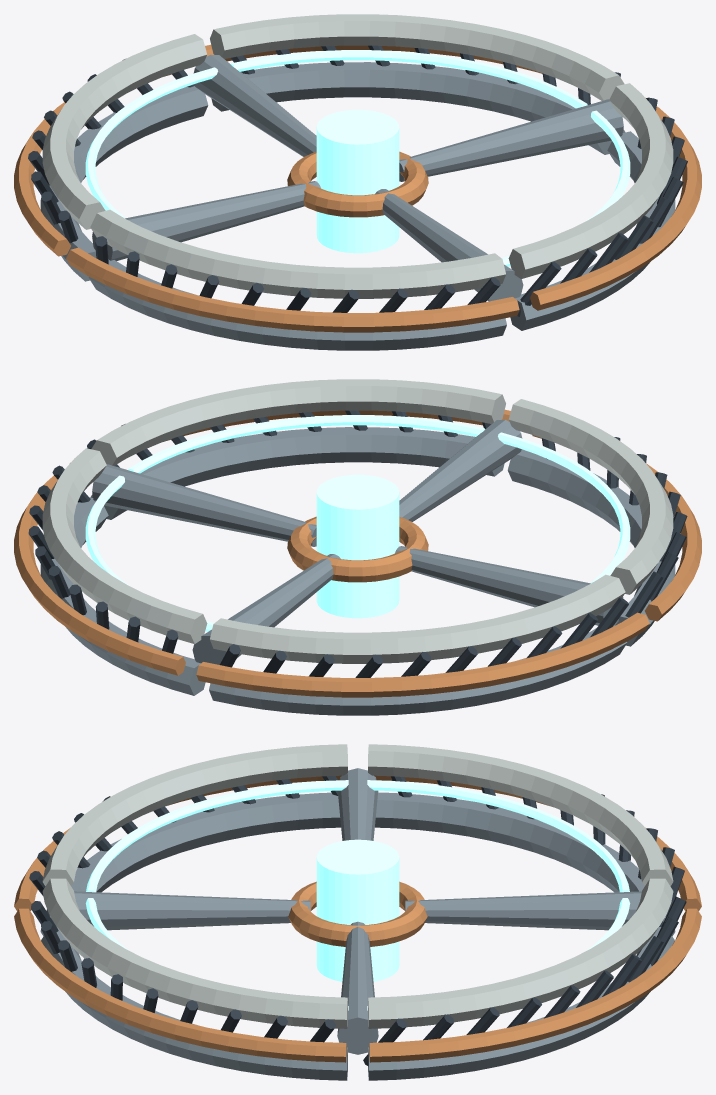
File: VeraMedium.glb
The picture shows the model from 3 angles, top to bottom: view 1: azimuth 30°, elevation 25°; view 2: azimuth 150°, elevation 25°; view 3: azimuth 270°, elevation 25°; orthographic projection.
Visible parts, largest first — view 1: ArcSection2, ArcSection0, ArcSection3, ArcSection1, EnergyCore; view 2: ArcSection1, ArcSection3, ArcSection0, ArcSection2, EnergyCore; view 3: ArcSection3, ArcSection1, ArcSection0, ArcSection2, EnergyCore.
Part boxes in pixels (x1=…): ArcSection2: x1=66, y1=181, x2=519, y2=350; ArcSection0: x1=205, y1=14, x2=645, y2=181; ArcSection3: x1=375, y1=83, x2=701, y2=330; ArcSection1: x1=14, y1=34, x2=316, y2=281; EnergyCore: x1=287, y1=109, x2=428, y2=253; ArcSection1: x1=192, y1=554, x2=649, y2=715; ArcSection3: x1=70, y1=379, x2=522, y2=521; ArcSection0: x1=14, y1=448, x2=316, y2=695; ArcSection2: x1=395, y1=399, x2=701, y2=646; EnergyCore: x1=287, y1=474, x2=428, y2=618; ArcSection3: x1=14, y1=878, x2=348, y2=1080; ArcSection1: x1=367, y1=744, x2=701, y2=935; ArcSection0: x1=337, y1=878, x2=701, y2=1080; ArcSection2: x1=14, y1=744, x2=378, y2=935; EnergyCore: x1=288, y1=839, x2=427, y2=981.
Bounding box in the file's own units: 7 × 1.22 × 7.
